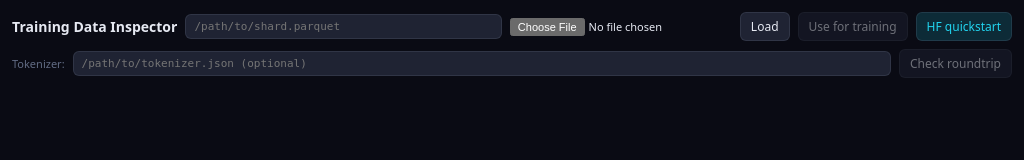
Scenario: DataInspector roundtrip badge (E7-3-UI) › Check roundtrip button enables when both paths filled
This screenshot has width=1024, height=160.
Type "/p.parquet" into the field with test id "data-path".
click(344, 26); type("/p.parquet")  # box [185,14,502,39]
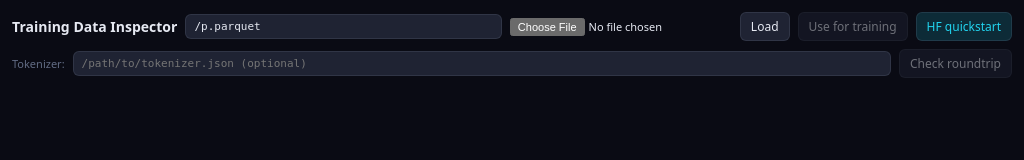
Type "/tok.json" into the field with test id "data-tokenizer-path".
click(482, 64); type("/tok.json")  # box [73,51,891,76]
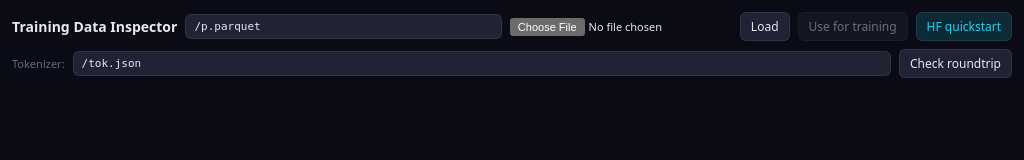
Expected: the button with test id "data-roundtrip" is enabled, [899,49,1012,78]
